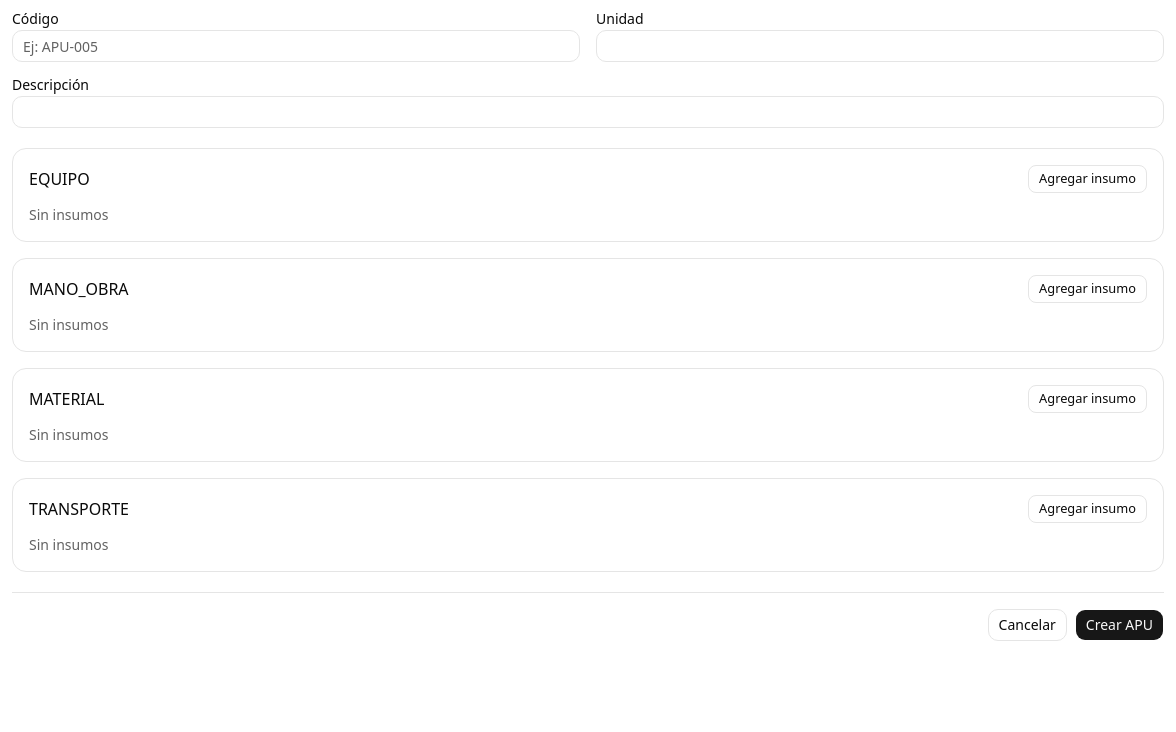
Test case: FormularioApuManualCompleto › en modo manual exige código y enfoca el primer campo inválido
What coordinates should you click on to do the following:
click the button "Crear APU"
I would click on:
 (1119, 625)
Its box is [1075,609,1164,641].
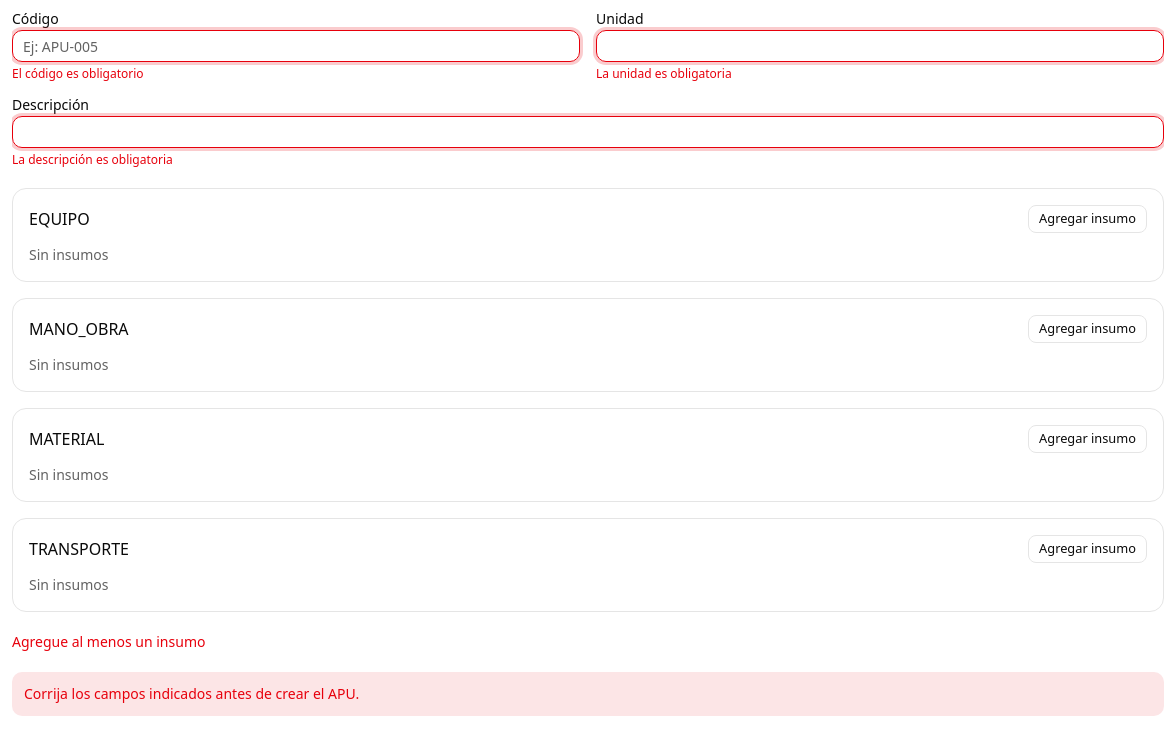
Check: the message shows "Corrija los campos indicados", box [24,684,359,703]
Check: the text "El código es obligatorio" is shown, box [12,65,144,82]
